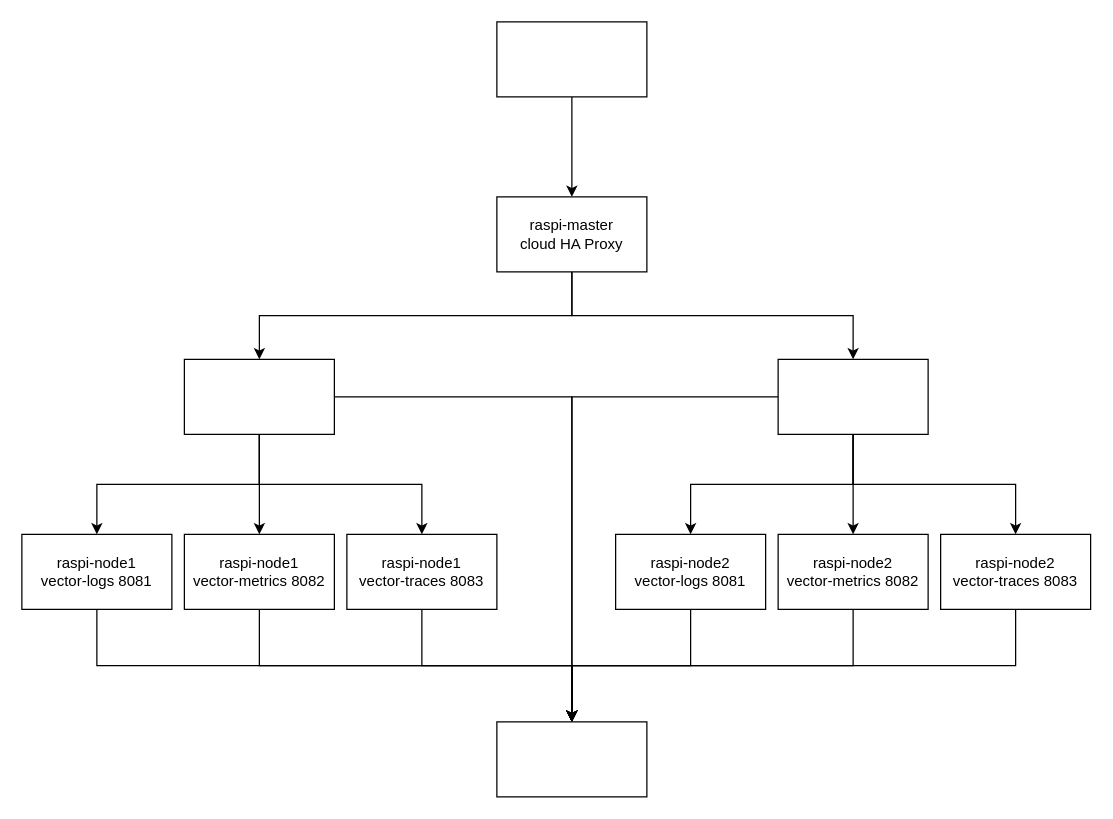
This 1113x819 diagram has some shape labels left out. Each missing label, with the centre of its shape:
"Datadog SaaS" goes at point 571,759.
"raspi-node1 on prem HAProxy" goes at point 258,396.
"raspi-node2 on prem HAProxy" goes at point 852,396.
"raspi-node3 dd agent" goes at point 571,59.
